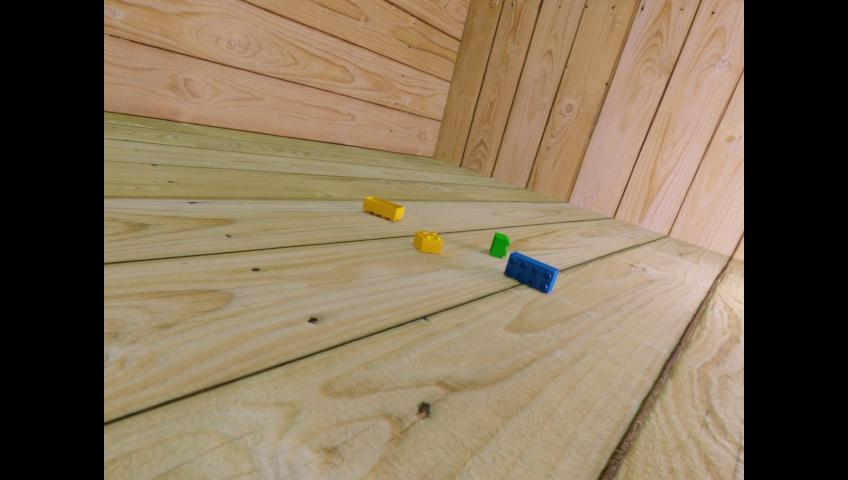2x2_green: (489, 231, 509, 258)
2x2_yellow: (413, 229, 442, 253)
4x2_blue: (503, 251, 558, 293)
4x2_yellow: (362, 195, 402, 220)
